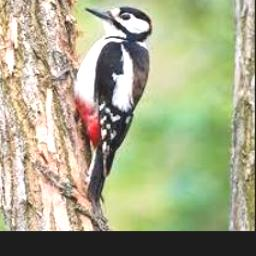Woodpecker: (73, 8, 153, 205)
